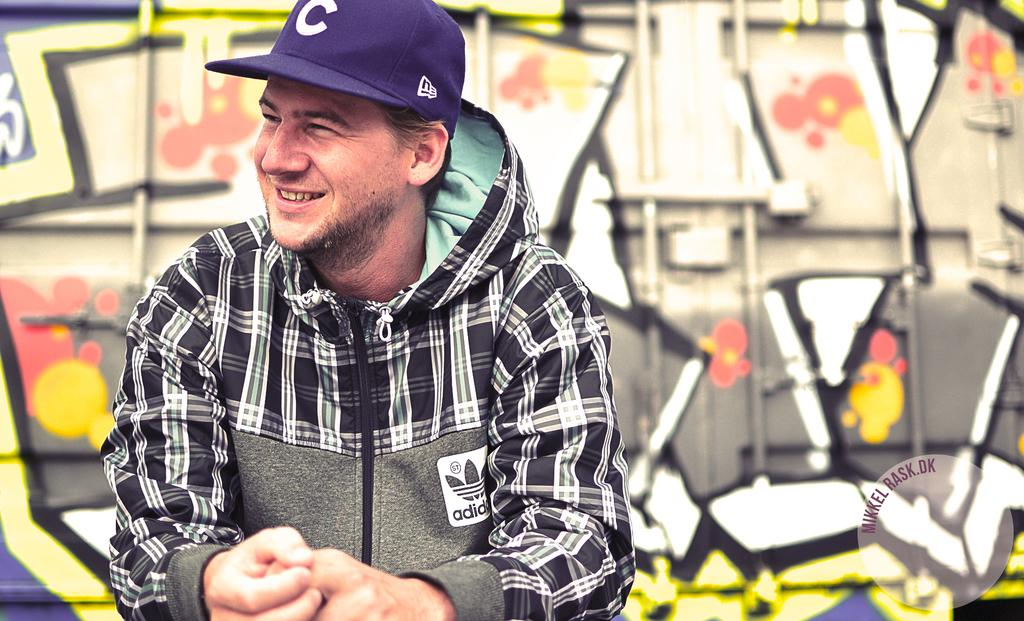Hat: (204, 0, 464, 140)
